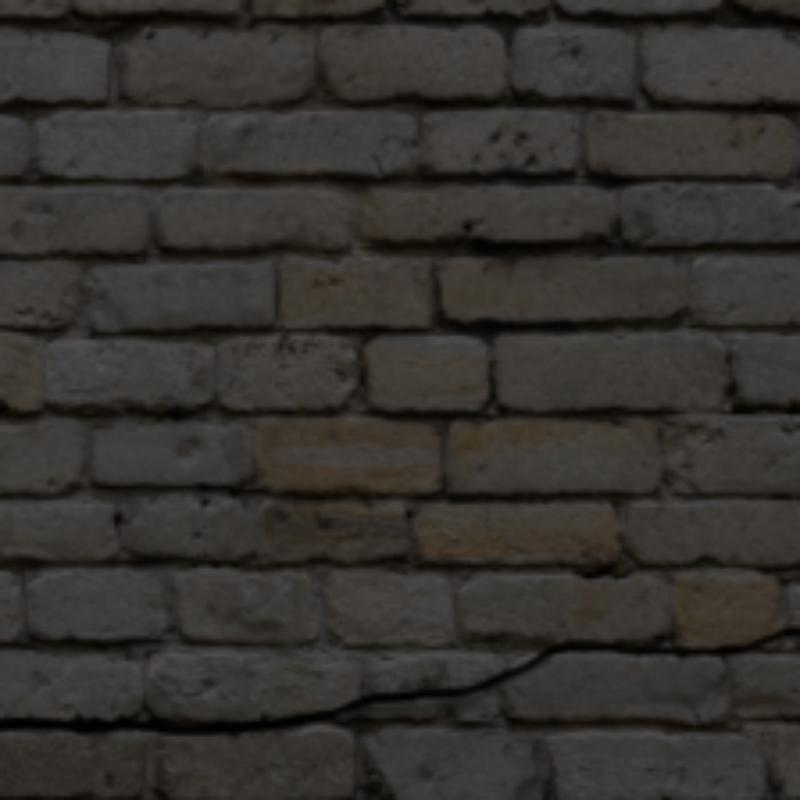pothole: (0, 629, 796, 729)
